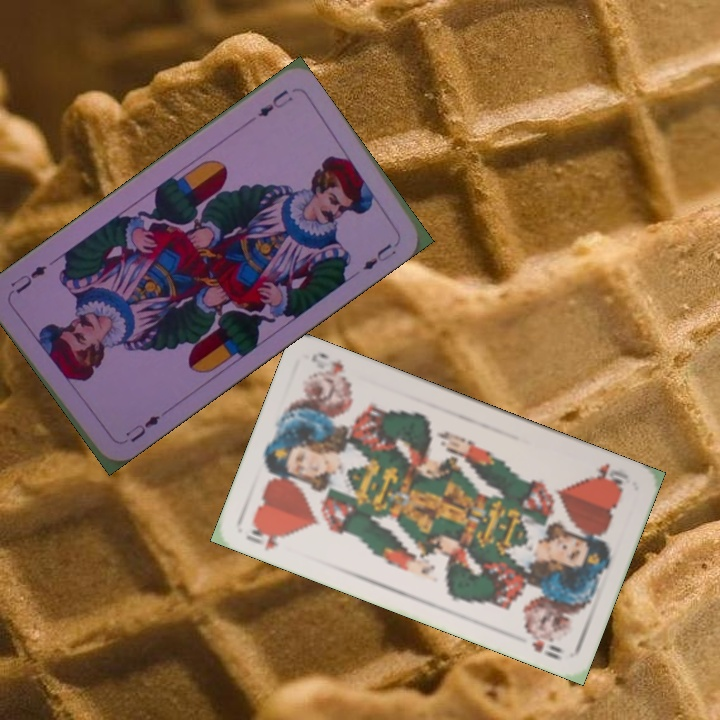EU: (254, 85, 296, 120), (121, 411, 163, 445)
HO: (242, 519, 291, 554), (585, 459, 631, 492)
